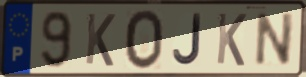9: (39, 9, 74, 70)
J: (171, 12, 203, 68)
K: (215, 11, 249, 68), (83, 11, 117, 68)
N: (252, 11, 297, 69)
O: (124, 8, 166, 72)
